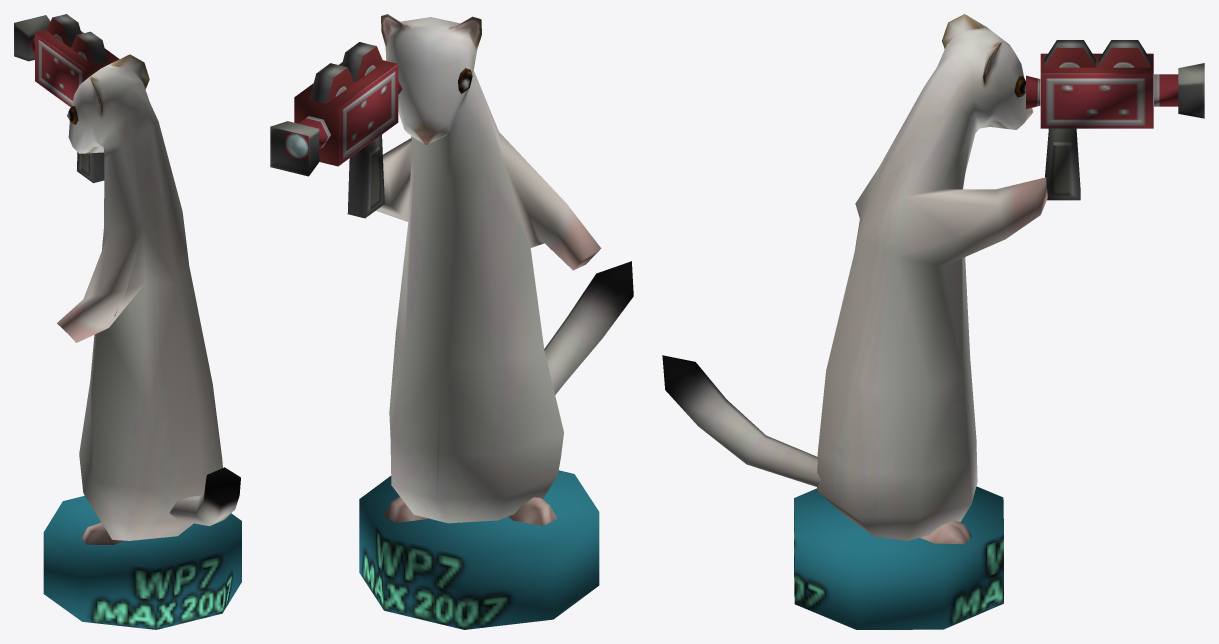
Rendered from wp7_vtr.ico.obj.
3 views of the same model, side by side, from view 1: azimuth 30°, elevation 25°; view 2: azimuth 150°, elevation 25°; view 3: azimuth 270°, elevation 25° (orthographic). The views are drawn at different scales.
Size of the model in its own units: 1.78 by 4.95 by 4.35.
1 material, 1 textured.
